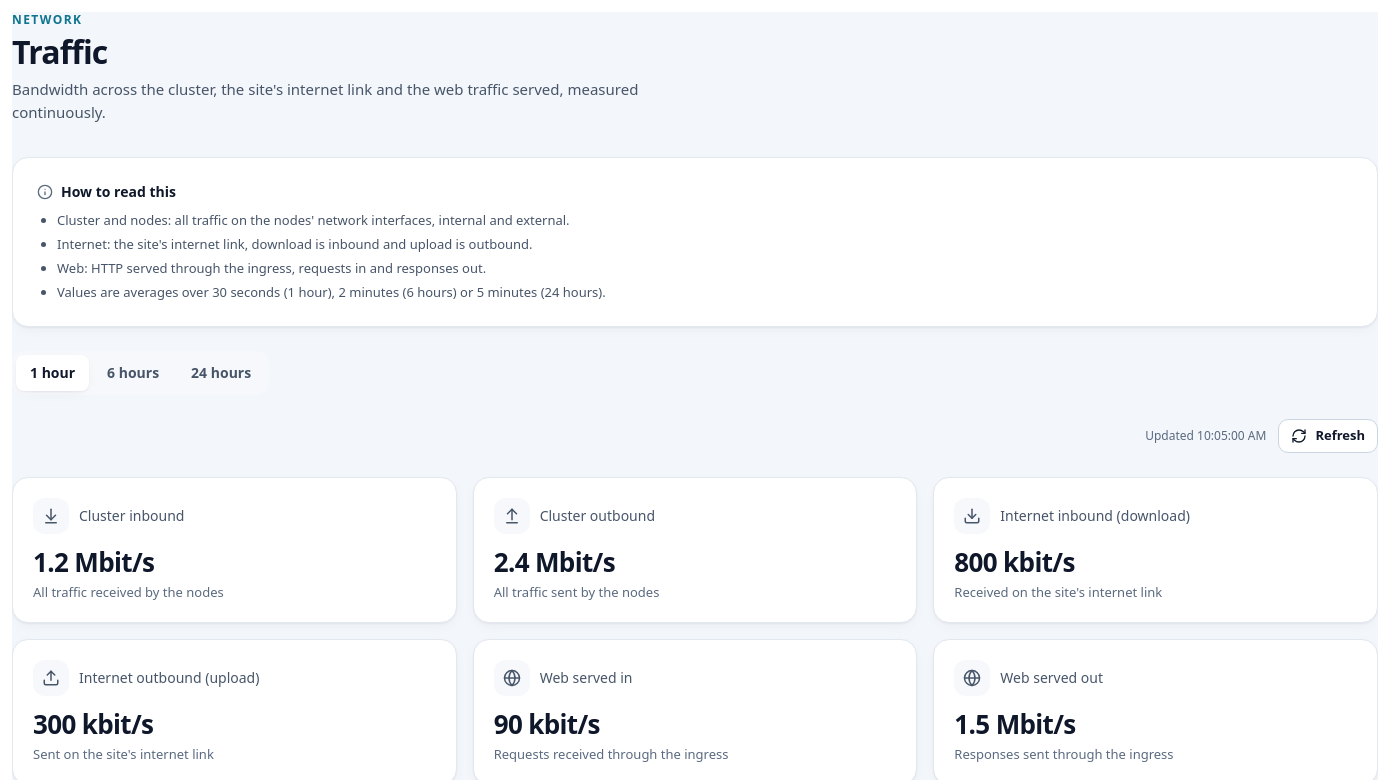
Test: TrafficView › shows a skeleton while a new range loads and aborts the request on unmount
Click the tab "24 hours" at point(221, 372), box [177,354,265,390]
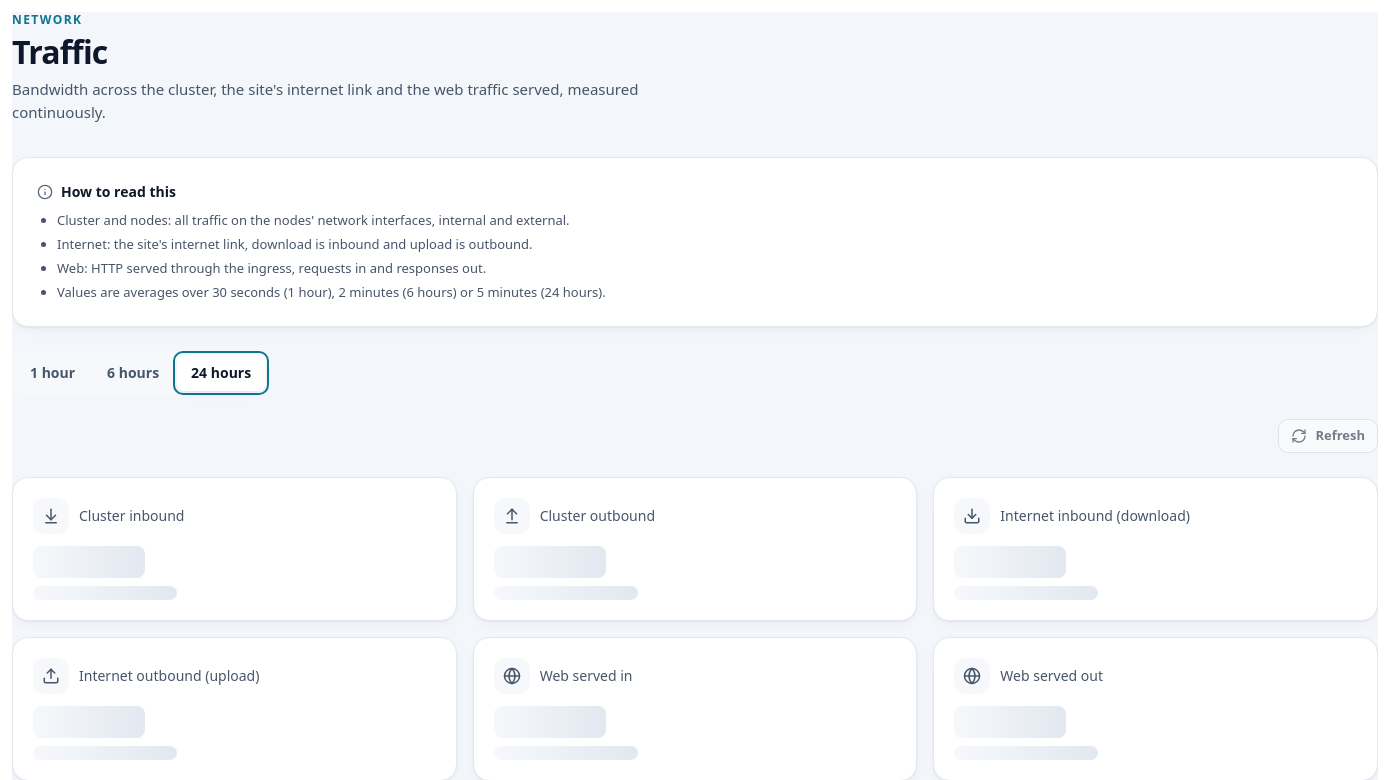
Now the message below "Cluster inbound" is shown, box [32,546,206,600]
